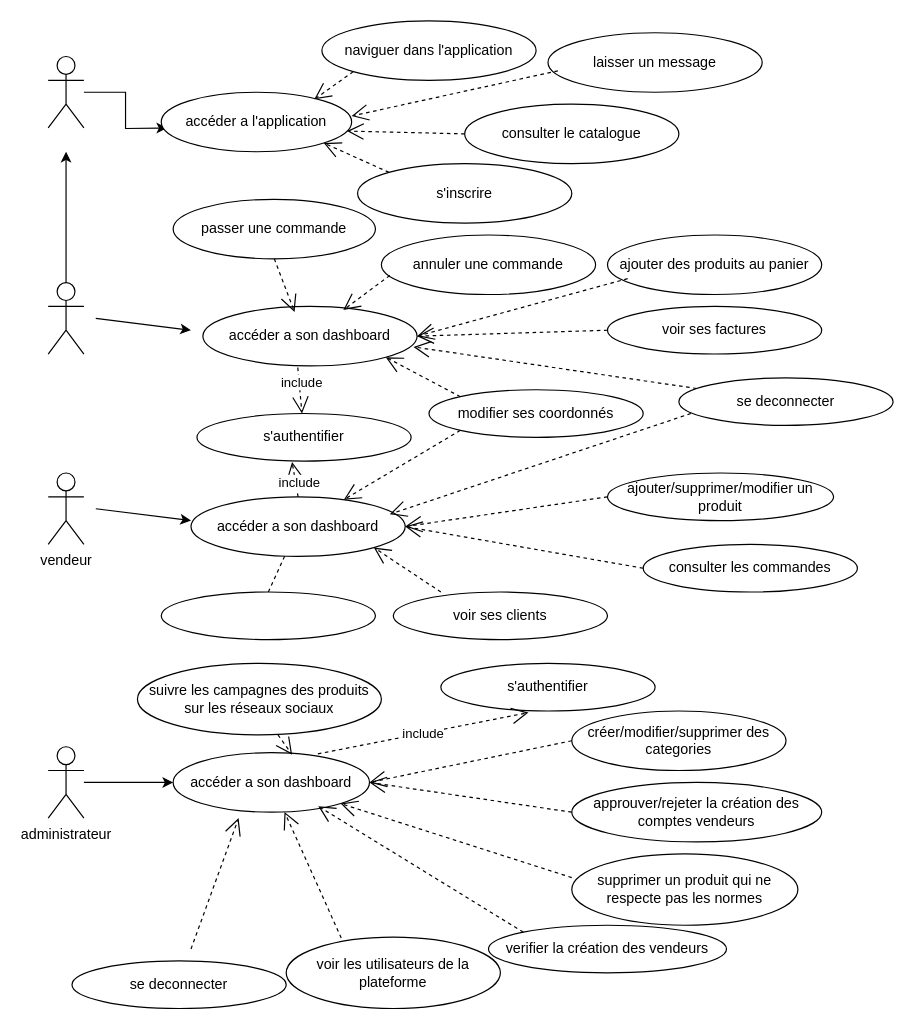
Image size: 914x1029. Some labels were removed from this diagram. The centre of each missing label's shape, as x and y in pixels:
client: [65,317]
Lancer une promotion: [267,615]
visiteur: [65,91]
